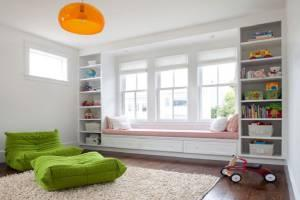window: (111, 44, 239, 128)
